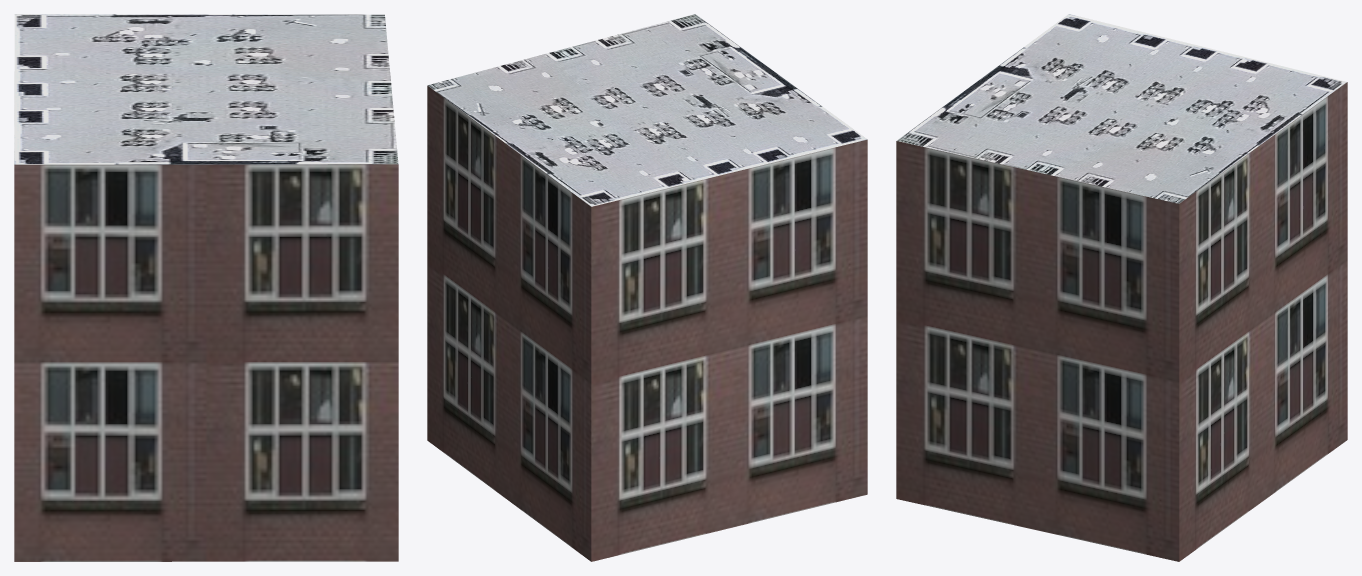
Rendered from ResTex__2425.fbx.
3 renders of one model, left to right at view 1: azimuth 30°, elevation 25°; view 2: azimuth 150°, elevation 25°; view 3: azimuth 270°, elevation 25°, orthographic. The views are drawn at different scales.
Parts seen in each view (by area): view 1: CityEngineMaterial_12_m, CityEngineMaterial_m; view 2: CityEngineMaterial_12_m, CityEngineMaterial_m; view 3: CityEngineMaterial_12_m, CityEngineMaterial_m.
Part boxes in pixels (x1,y1,x2,y2): CityEngineMaterial_12_m: (14, 164, 398, 561); CityEngineMaterial_m: (14, 14, 398, 164); CityEngineMaterial_12_m: (427, 86, 867, 561); CityEngineMaterial_m: (427, 14, 867, 206); CityEngineMaterial_12_m: (896, 82, 1347, 561); CityEngineMaterial_m: (897, 14, 1346, 203).
Bounding box in the file's own units: 6.82 × 6 × 6.85.
Materials: 2 (2 with a texture image).
